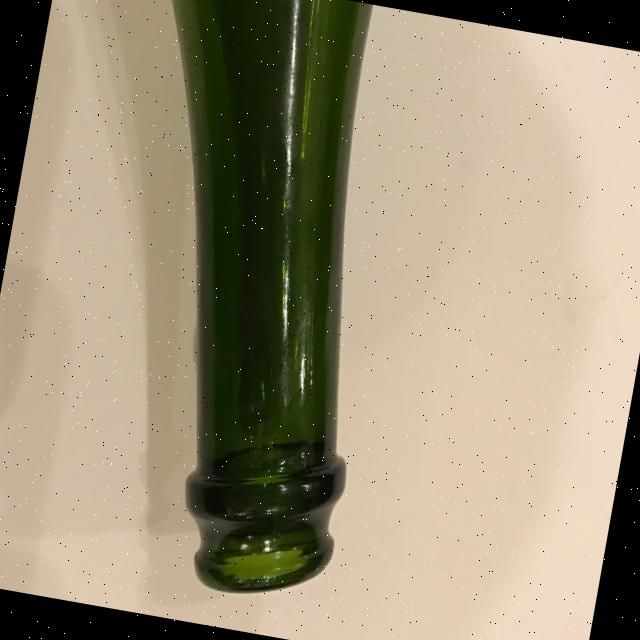glass: (59, 0, 430, 609)
